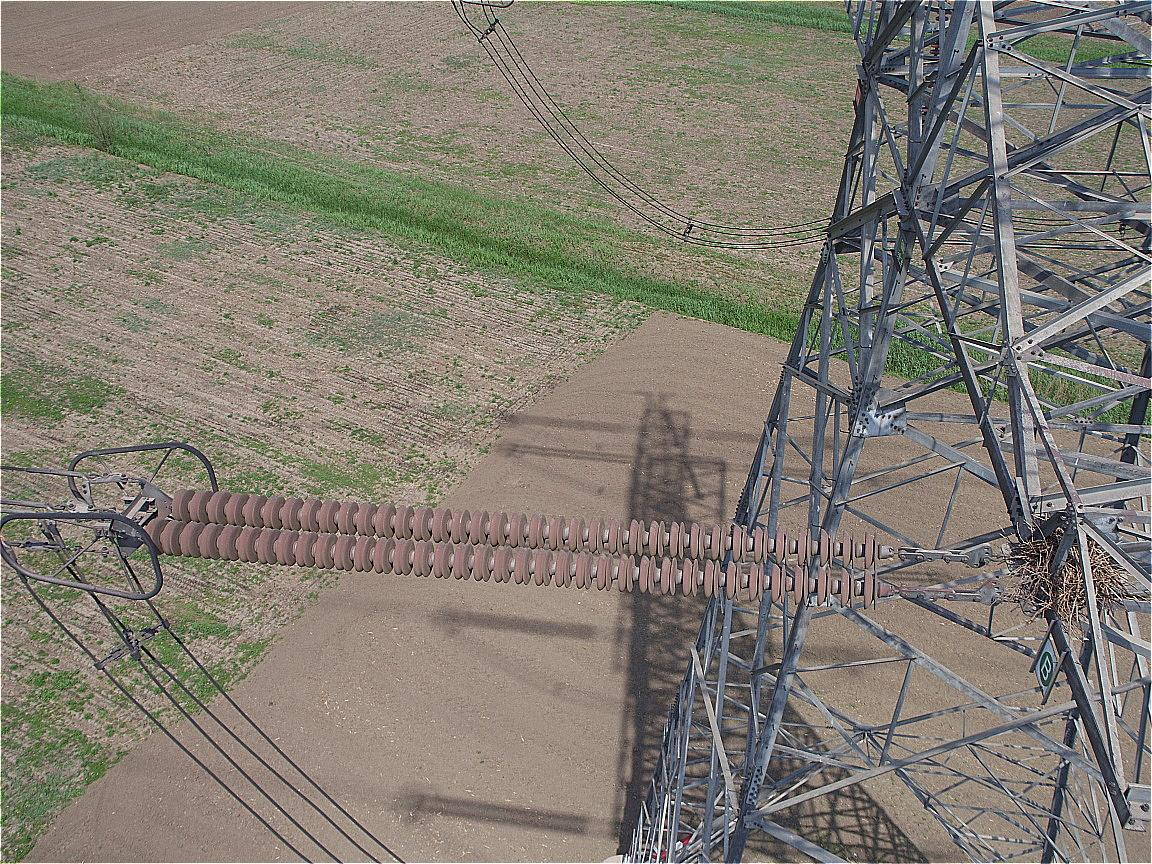insultor2: (140, 471, 901, 616)
